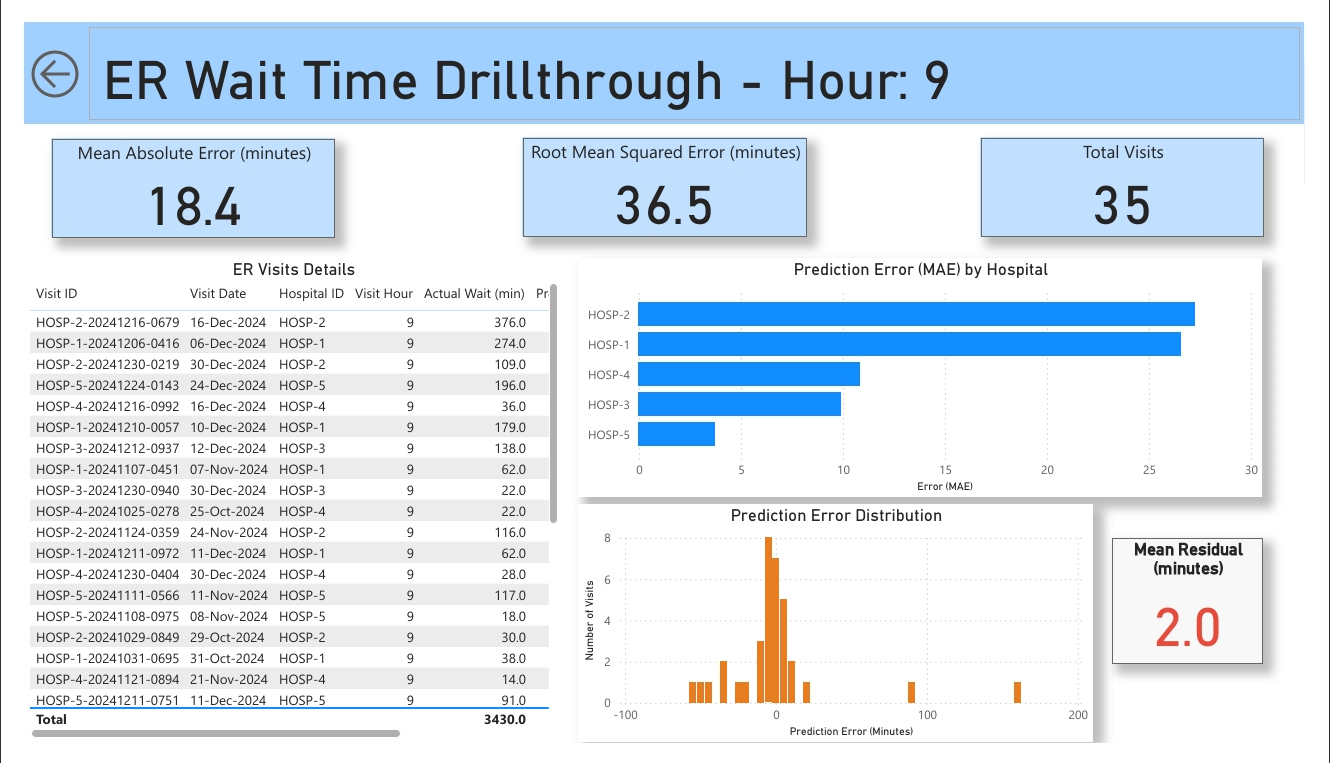

The page's visual inventory and layout, read from the dashboard file:
{"tool":"powerbi","page":{"name":"Hour Detail","canvas":[1280,720],"ordinal":2},"visuals":[{"type":"actionButton","box":[0,0,60.5,102.4],"z":0},{"type":"card","title":"Mean Absolute Error (minutes)","fields":{"Values":["ER_Predictions.Hour_MAE"]},"box":[27,116,283,99],"z":1000},{"type":"card","title":"Root Mean Squared Error (minutes)","fields":{"Values":["ER_Predictions.Hour_RMSE"]},"box":[497.9,114.8,283.9,99.3],"z":2000},{"type":"card","title":"Total Visits","fields":{"Values":["ER_Predictions.Visit_Count"]},"box":[955.6,115.3,283,99],"z":3000},{"type":"clusteredBarChart","title":"Prediction Error (MAE) by Hospital","fields":{"Category":["ER_By_Hospital.hospital_id"],"Y":["ER_Predictions.MAE_By_Hospital"]},"box":[553.8,235.8,684.1,238.9],"z":4000},{"type":"clusteredColumnChart","title":"Prediction Error Distribution","fields":{"Category":["ER_Predictions.Residual Bins"],"Y":["CountNonNull(ER_Predictions.visit_id)"]},"box":[553.8,482.4,515,237.3],"z":5000},{"type":"card","title":"Mean Residual (minutes)","fields":{"Values":["ER_Predictions.Mean_Residual_Hour"]},"box":[1087.4,515,150.5,125.6],"z":6000},{"type":"tableEx","title":"ER Visits Details","fields":{"Values":["ER_Predictions.visit_id","ER_Predictions.Visit_Date_Clean","ER_Predictions.hospital_id","ER_By_Hour.visit_hour","Sum(ER_Predictions.total_wait_time_minutes)","Sum(ER_Predictions.predicted_wait_minutes)","Sum(ER_Predictions.residual)"]},"box":[0,235.8,538.3,484],"z":7000},{"type":"cardVisual","fields":{"Data":["ER_Predictions.Selected_Hour"]},"box":[60.5,0,1219.2,102.4],"z":8000}]}

Visuals, with their boxes in screenshot pixels (x1, y1, x2, y2), scaled from the page's 1280x720 canvas onto the 1330x763 screenshot:
actionButton: rect(0, 0, 63, 109)
"Mean Absolute Error (minutes)" card: rect(28, 123, 322, 228)
"Root Mean Squared Error (minutes)" card: rect(517, 122, 812, 227)
"Total Visits" card: rect(993, 122, 1287, 227)
"Prediction Error (MAE) by Hospital" clusteredBarChart: rect(575, 250, 1286, 503)
"Prediction Error Distribution" clusteredColumnChart: rect(575, 511, 1111, 762)
"Mean Residual (minutes)" card: rect(1130, 546, 1286, 679)
"ER Visits Details" tableEx: rect(0, 250, 559, 762)
cardVisual - ER_Predictions.Selected_Hour: rect(63, 0, 1329, 109)
